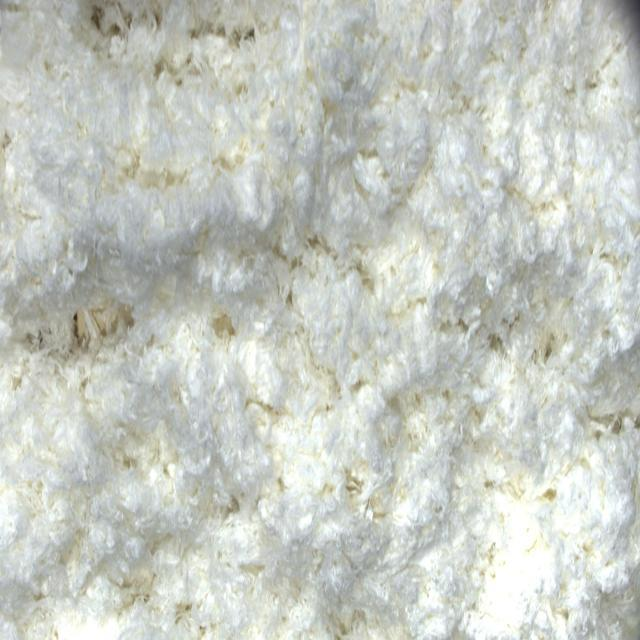dust: (72, 294, 90, 358)
